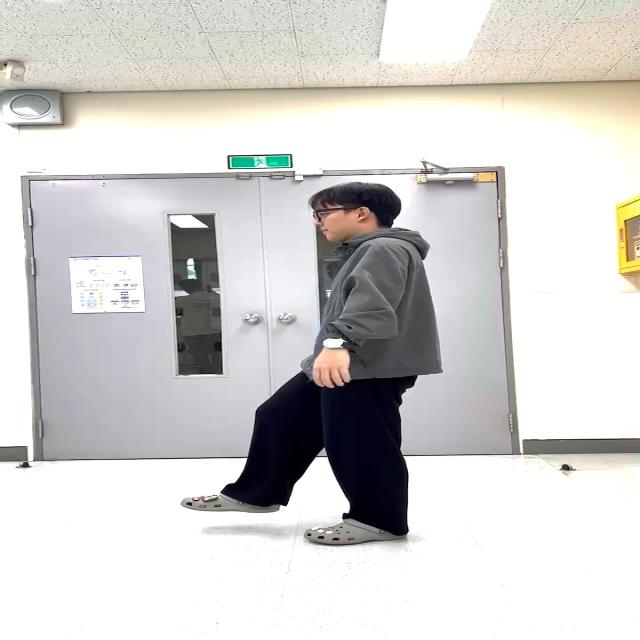leg: (180, 370, 324, 512), (304, 379, 411, 544)
